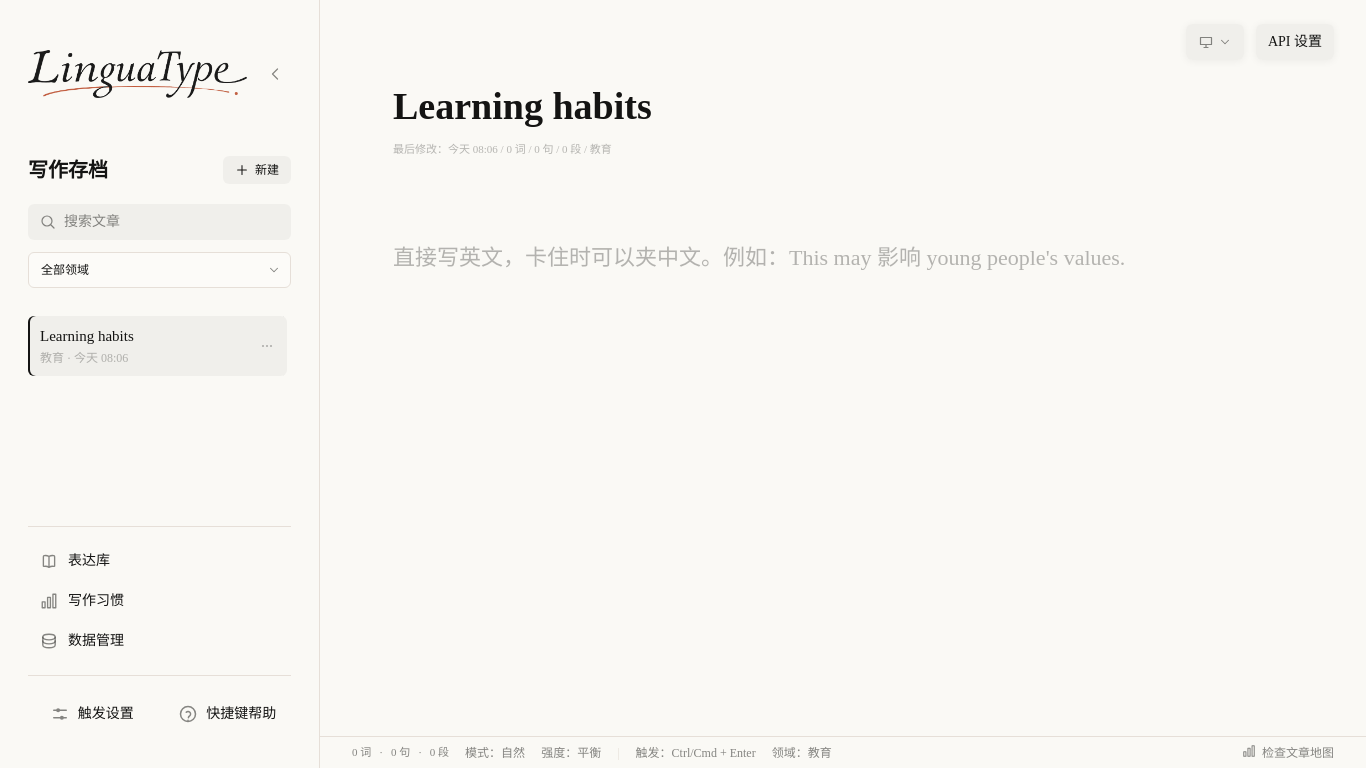
Scenario: Chinese placeholder writing flow › keeps independent stable suggestion icons for multiple Chinese sentences and clears them on new archive
In the text box named "写作编辑器": (843, 493) [393,233,1293,753], type "I found that many students lack 自主学习能力. This may 影响 young people's values."
Wait 800 ms
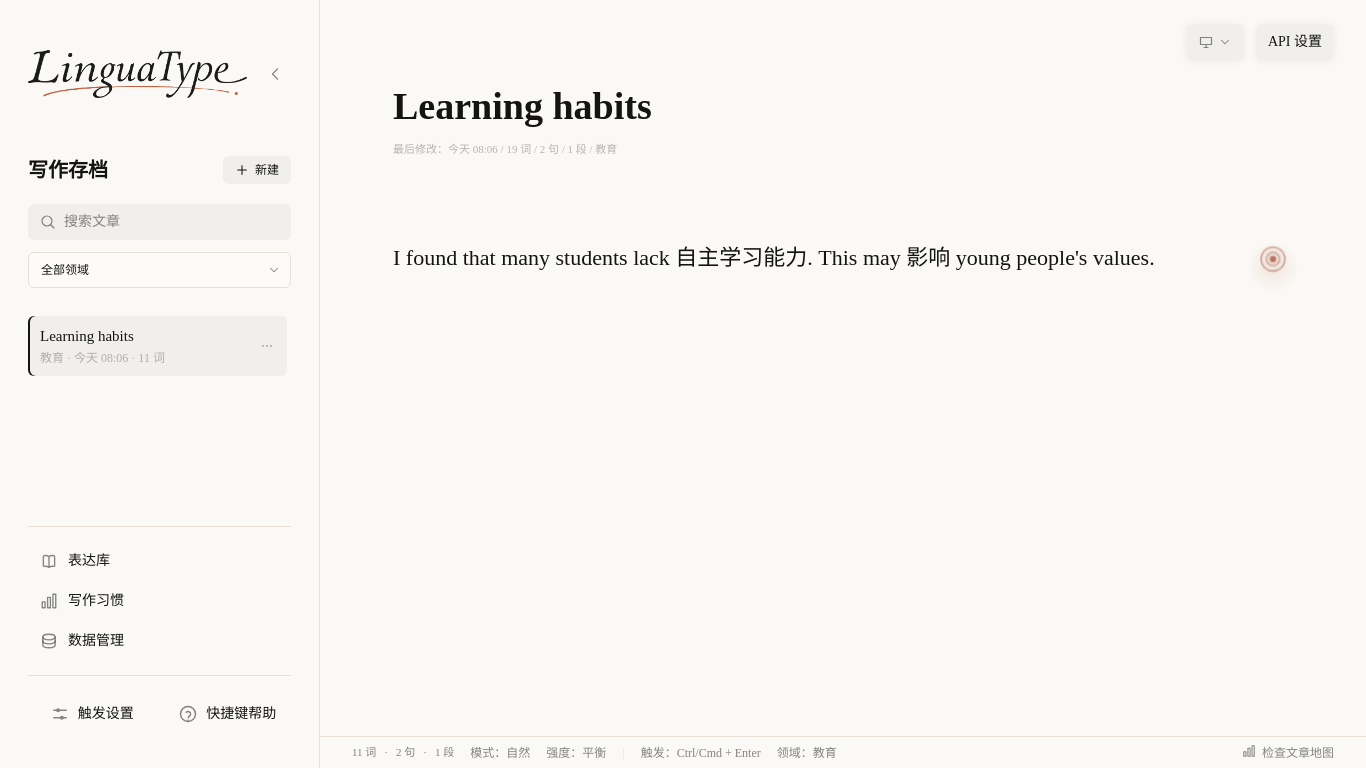
Check: the number of buttons named "查看当前 AI 建议" is 2
Click the 2nd button named "查看当前 AI 建议": (1273, 259) [1260,246,1286,271]
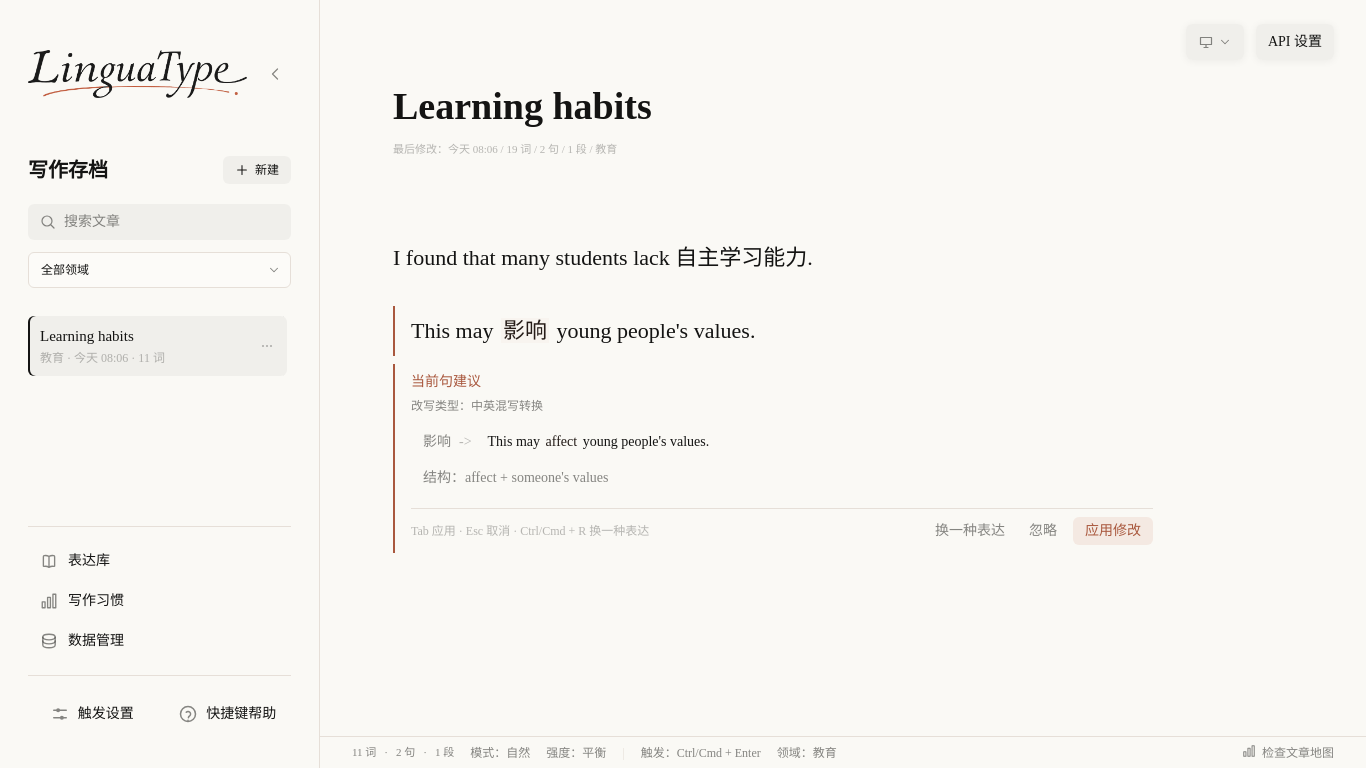
Check: the element named "当前句行内建议" is shown, box [393,364,1153,553]
Check: the element named "AI 建议句子焦点" reads "This may 影响 young people's values.", box [393,306,1197,356]
Click the button "新建": (257, 170) [223,156,291,184]
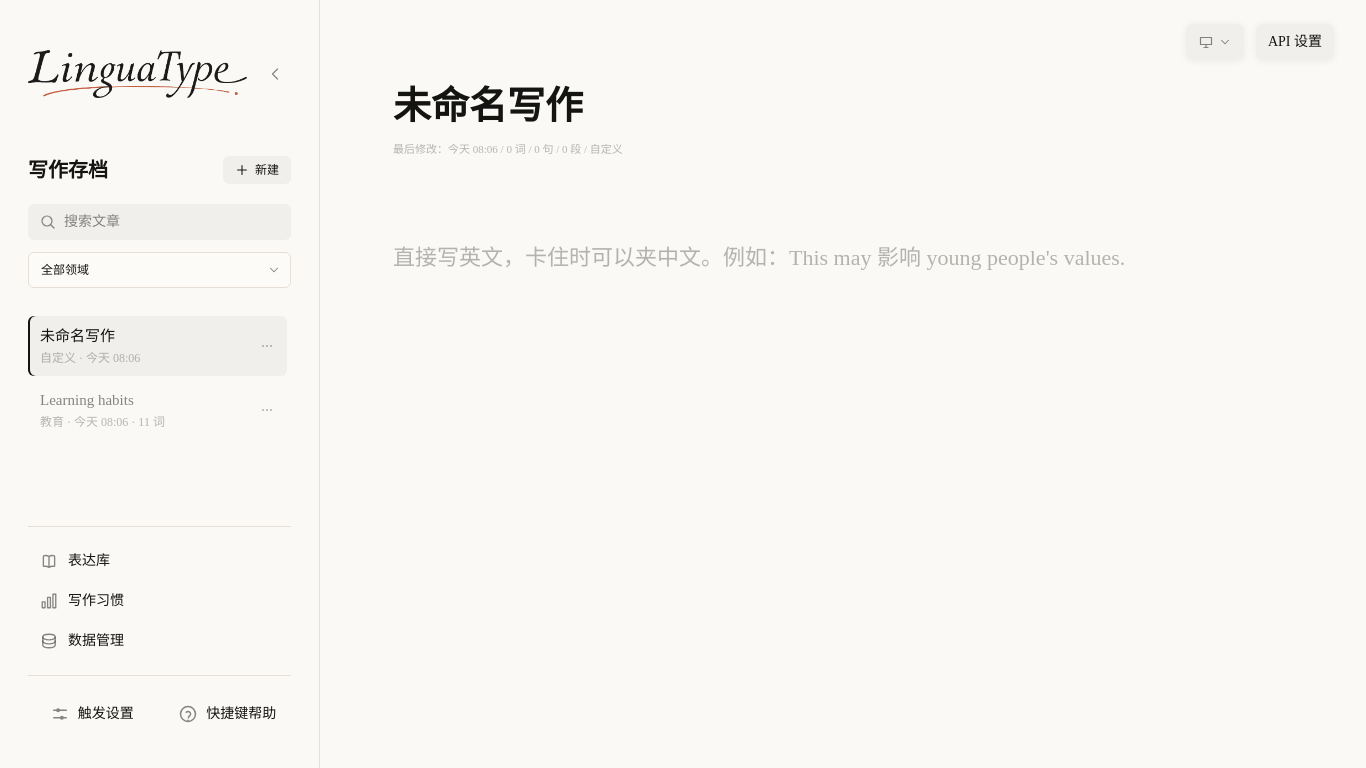
Check: the text box named "写作编辑器" is empty, box [393,233,1293,753]
Check: the field labelled "当前句行内建议" is gone
